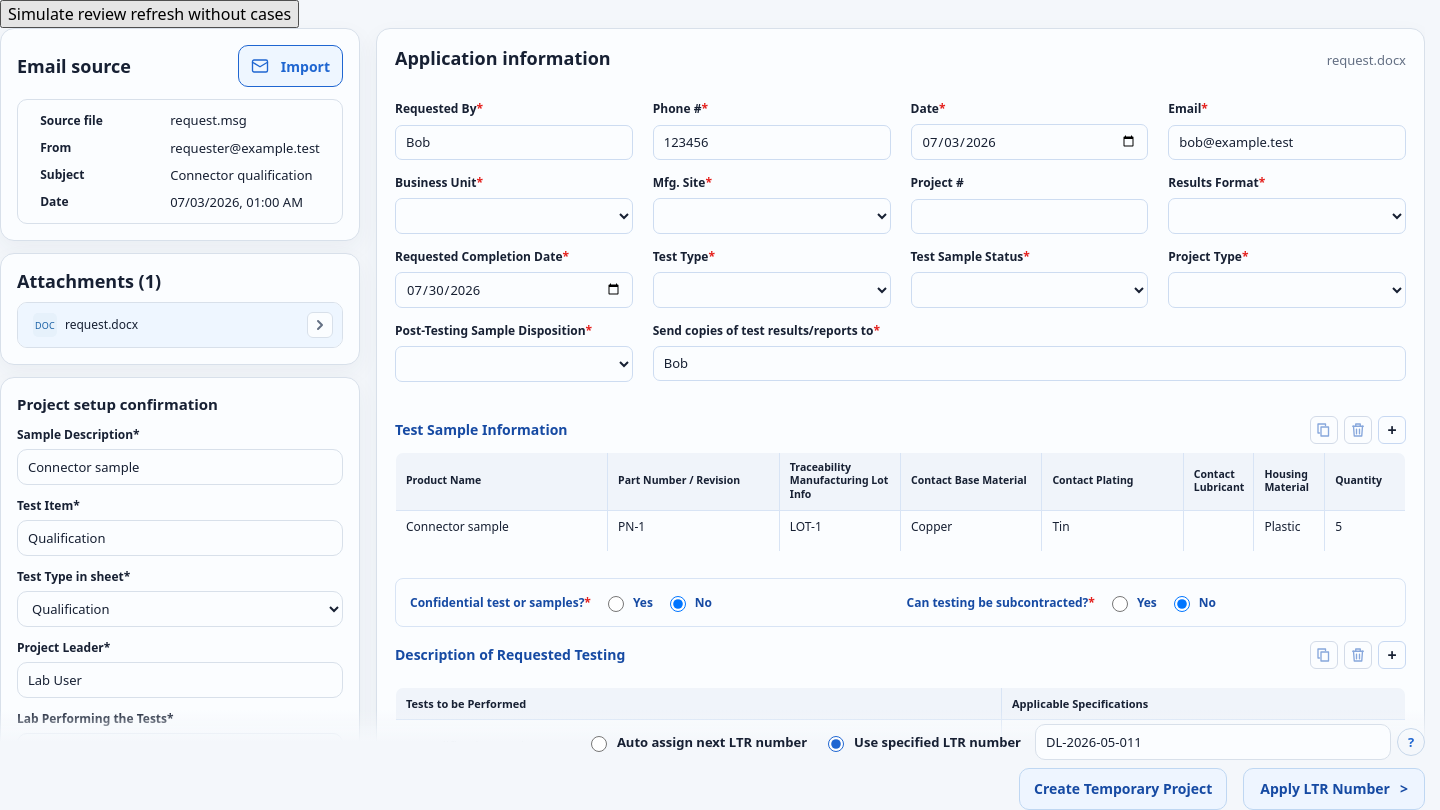
Test: IntakeInboxPage local LTR duplicate cancel recovery › compares workbook values in one aligned table with each English field label shown once
The width and height of the screenshot is (1440, 810).
Click the button "Apply LTR Number >".
click(1334, 789)  # box [1243,768,1425,809]
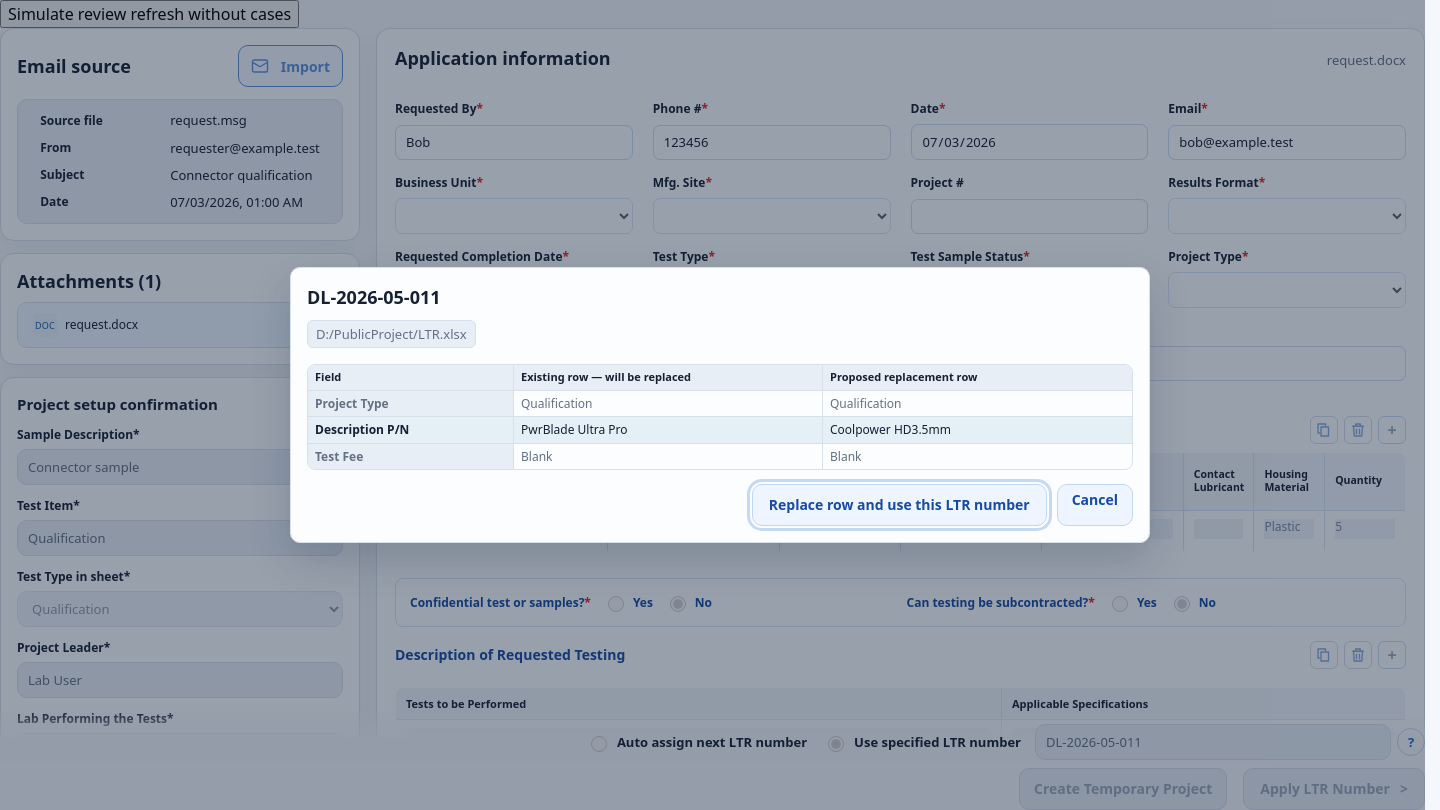
Now the column headings read "Field", "Existing row — will be replaced", "Proposed replacement row", in this order, box [308,365,514,390]; [514,365,823,390]; [823,365,1132,390]
Now the number of column headings "Description P/N" is 1, box [308,417,514,444]
Now the cells read "PwrBlade Ultra Pro", "Coolpower HD3.5mm", in this order, box [514,417,823,444]; [823,417,1132,444]
